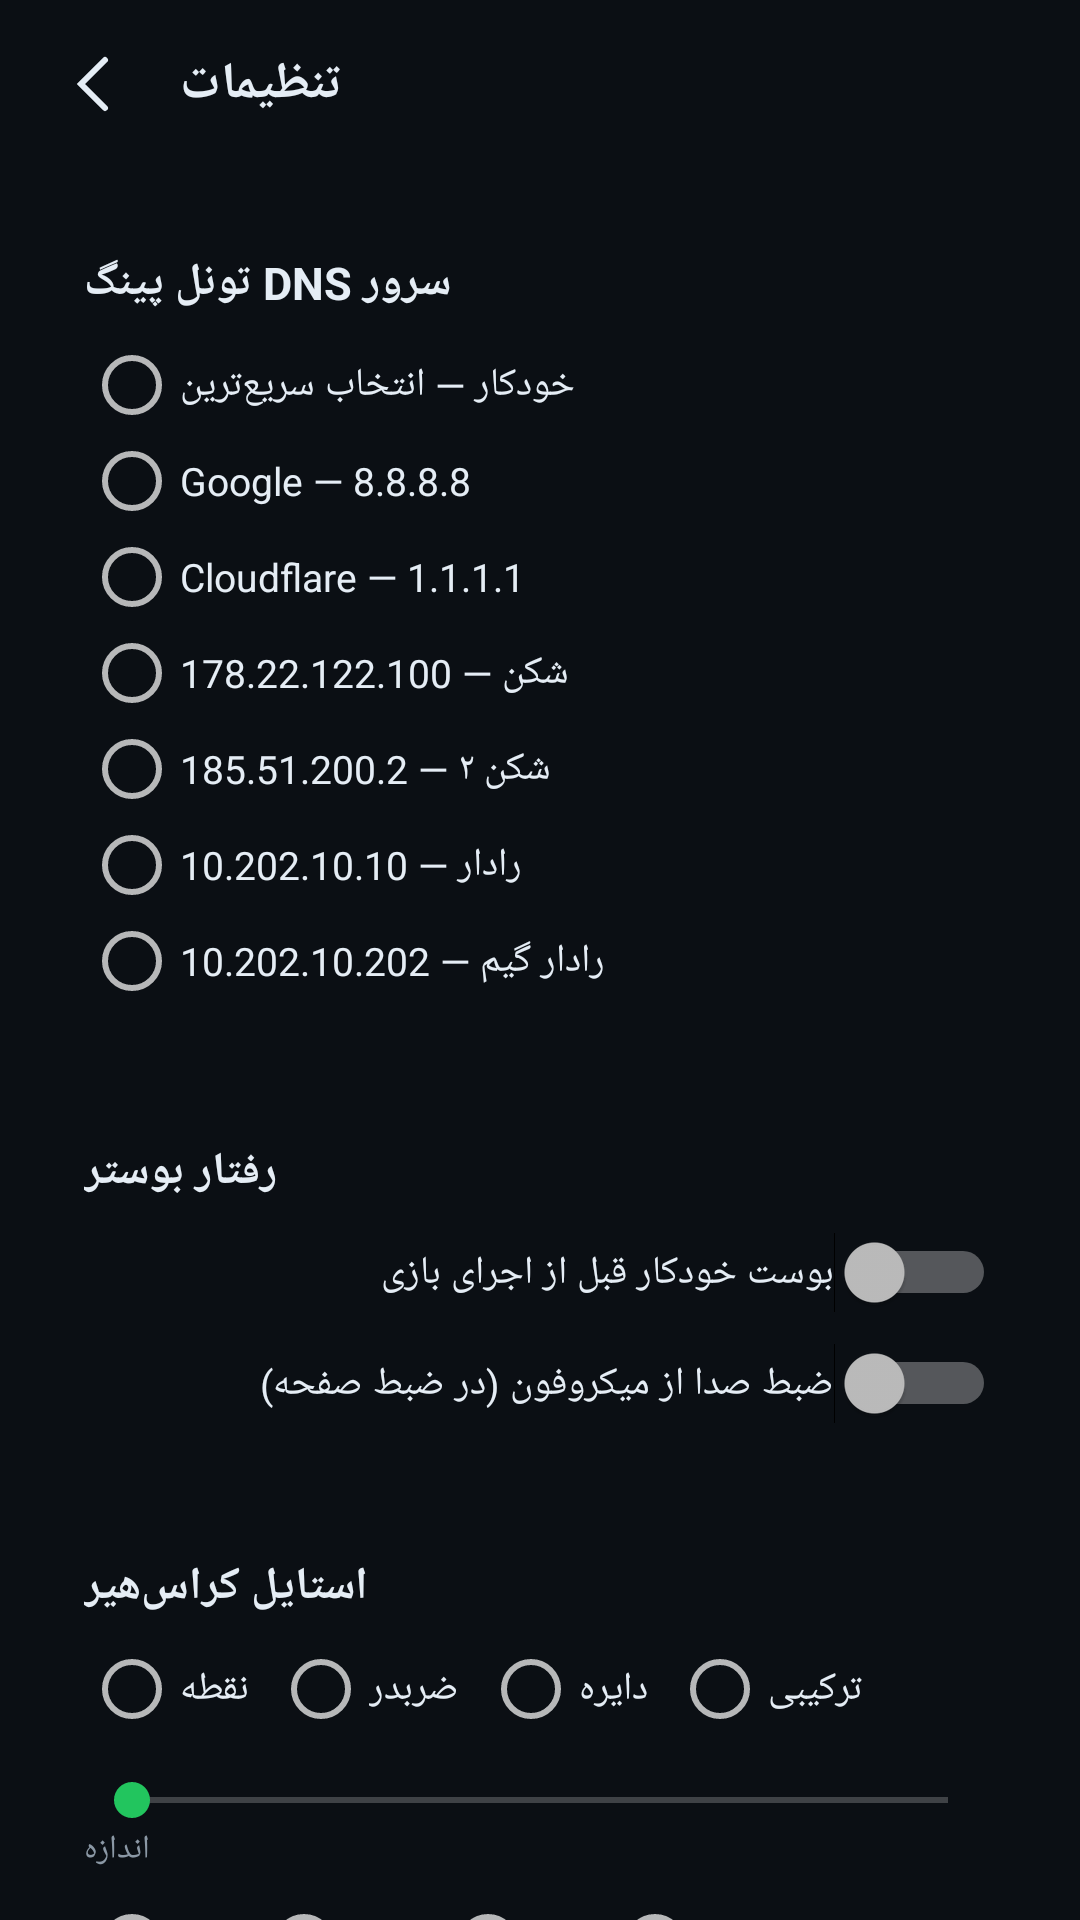

Locate icon controls on the screen. Image size 1080 × 1920, boxes as (x1, y1, x2, y2).
back: (77, 56, 108, 111)
